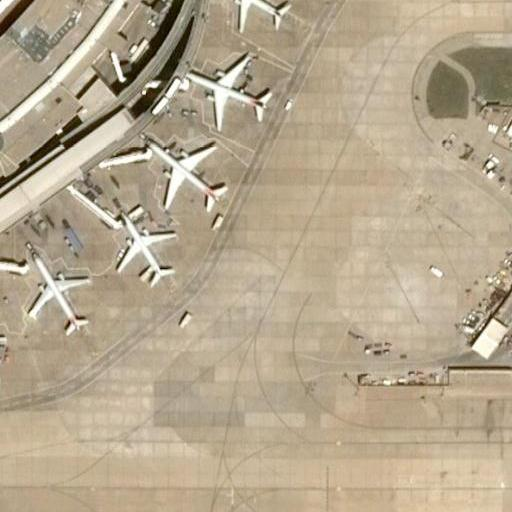Aircraft: (143, 135, 240, 221), (181, 56, 278, 138), (104, 204, 177, 291), (20, 249, 89, 335), (199, 0, 303, 36), (0, 306, 9, 390)
